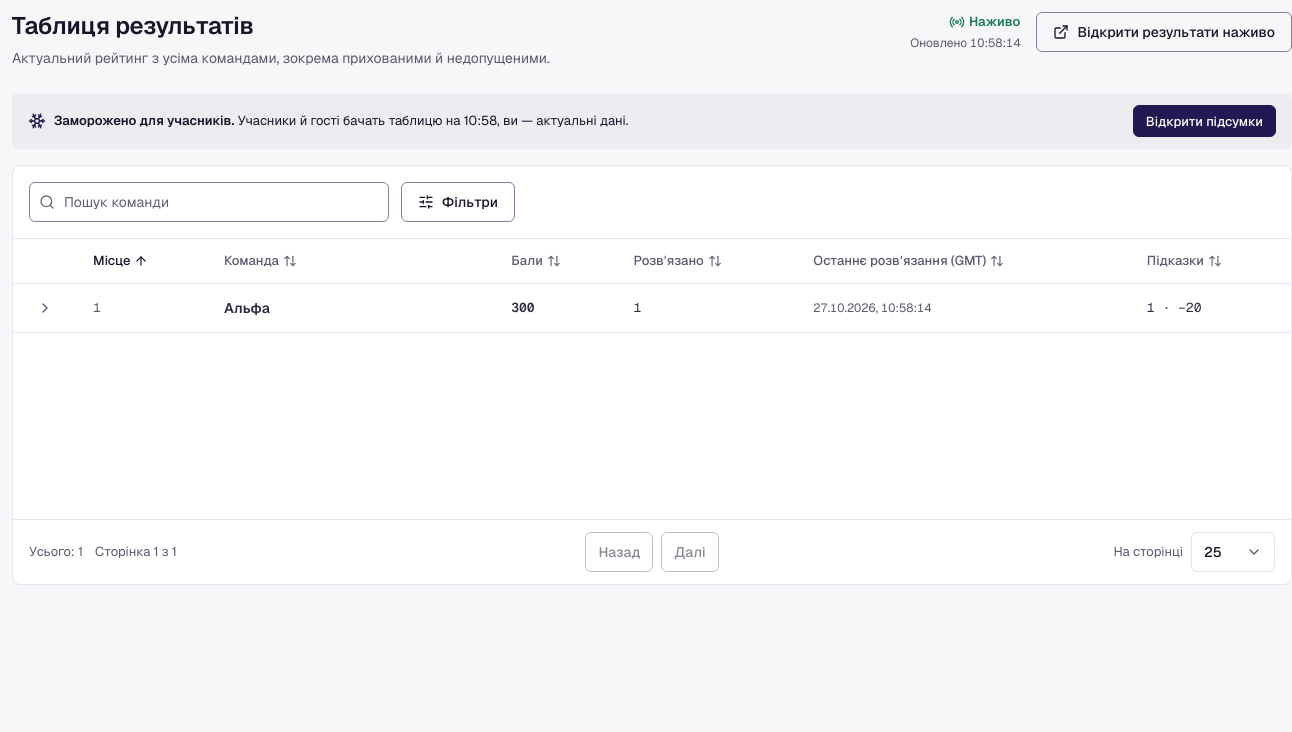
Test: lists teams, marks the freeze for participants and expands the solves
Check: the text "Альфа" is shown, box [224,298,270,319]
Check: the text "Заморожено для учасників." is shown, box [54,112,234,129]
Click the button named "Показати розвʼязання: Альфа" at (45, 308), box [29,292,61,324]
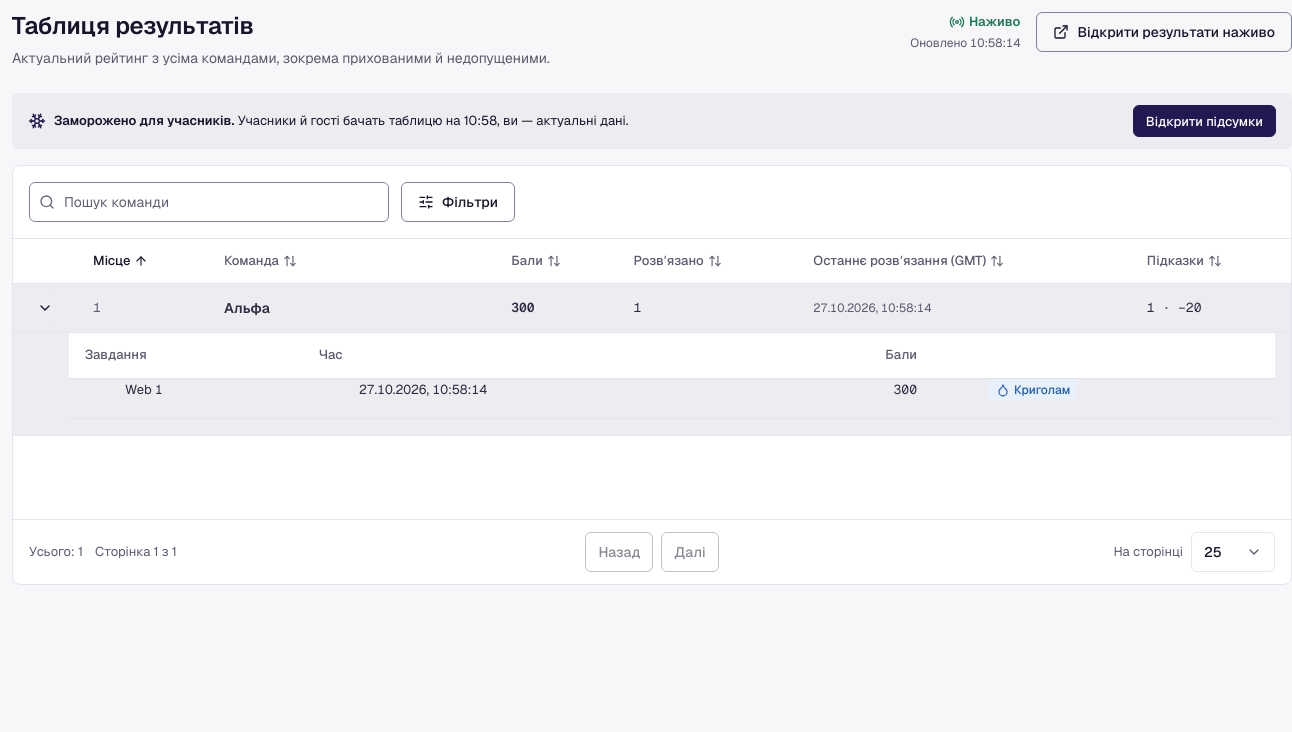
Check: the button named "Показати розвʼязання: Альфа" is expanded, box [29,292,61,324]
Check: the text "Web 1" is shown, box [69,378,303,418]
Check: the text "Криголам" is shown, box [989,379,1077,401]
